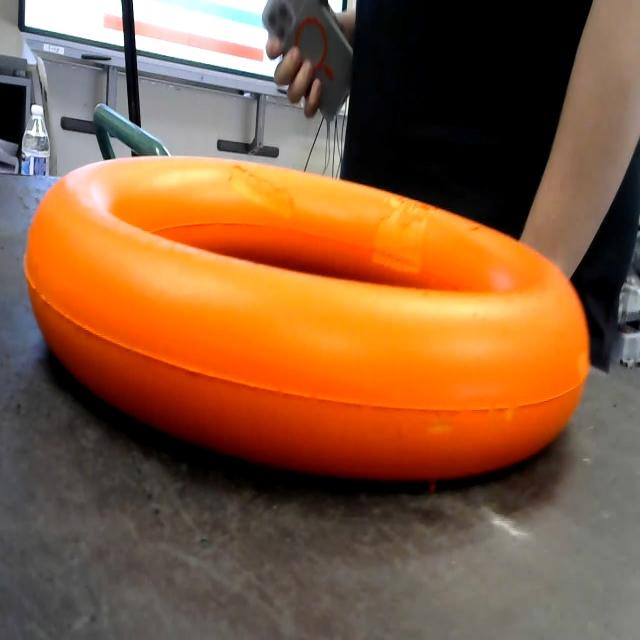note: (28, 142, 592, 499)
